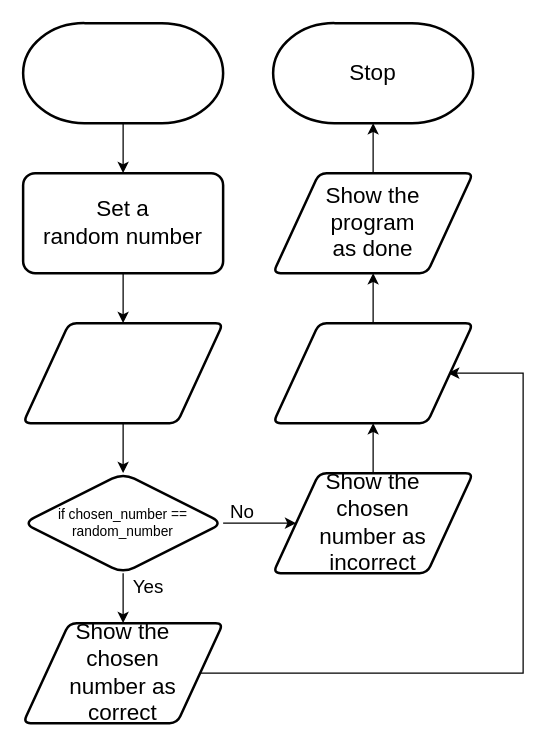
The diagram is 555 pixels wide and 748 high, and some of its shapes have lost their labels. The centre of each missing label's shape, as x and y in pixels:
"Set the chosen number" goes at pixel 122 372.
"Show the hidden number" goes at pixel 372 372.
"Start" goes at pixel 122 72.
